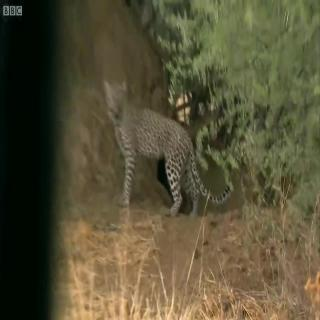Leopard: (98, 64, 223, 227)
